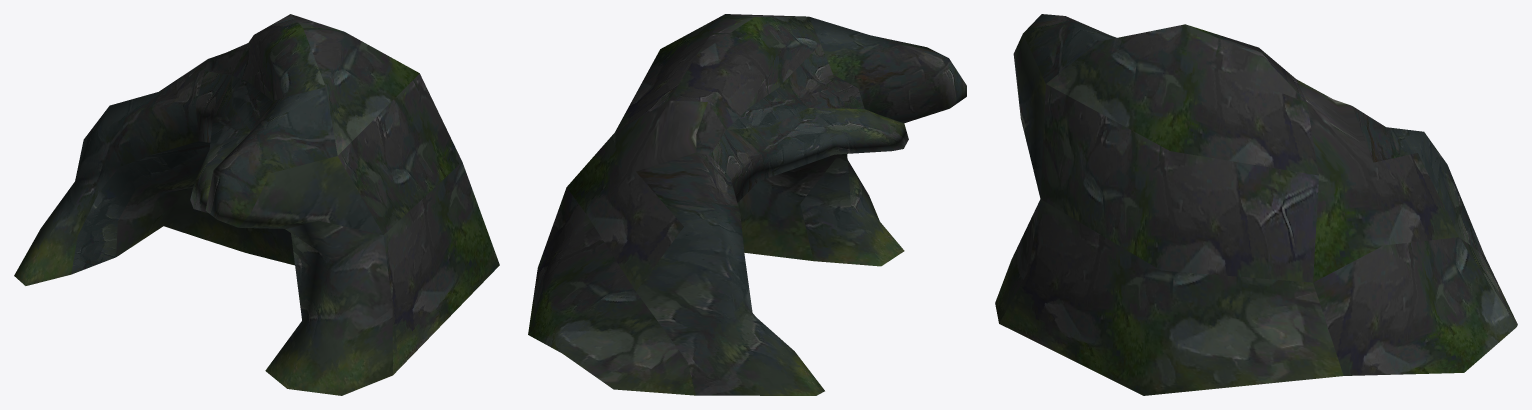
File: cave.fbx
3 views of the same model, side by side, from view 1: azimuth 30°, elevation 25°; view 2: azimuth 150°, elevation 25°; view 3: azimuth 270°, elevation 25° (orthographic). The views are drawn at different scales.
Parts seen in each view (by area): view 1: cave; view 2: cave; view 3: cave.
Part boxes in pixels (x1,y1,x2,y2): cave: [14, 14, 499, 395]; cave: [528, 14, 966, 395]; cave: [995, 14, 1517, 395].
Bounding box in the file's own units: 10.08 × 7.85 × 12.19.
